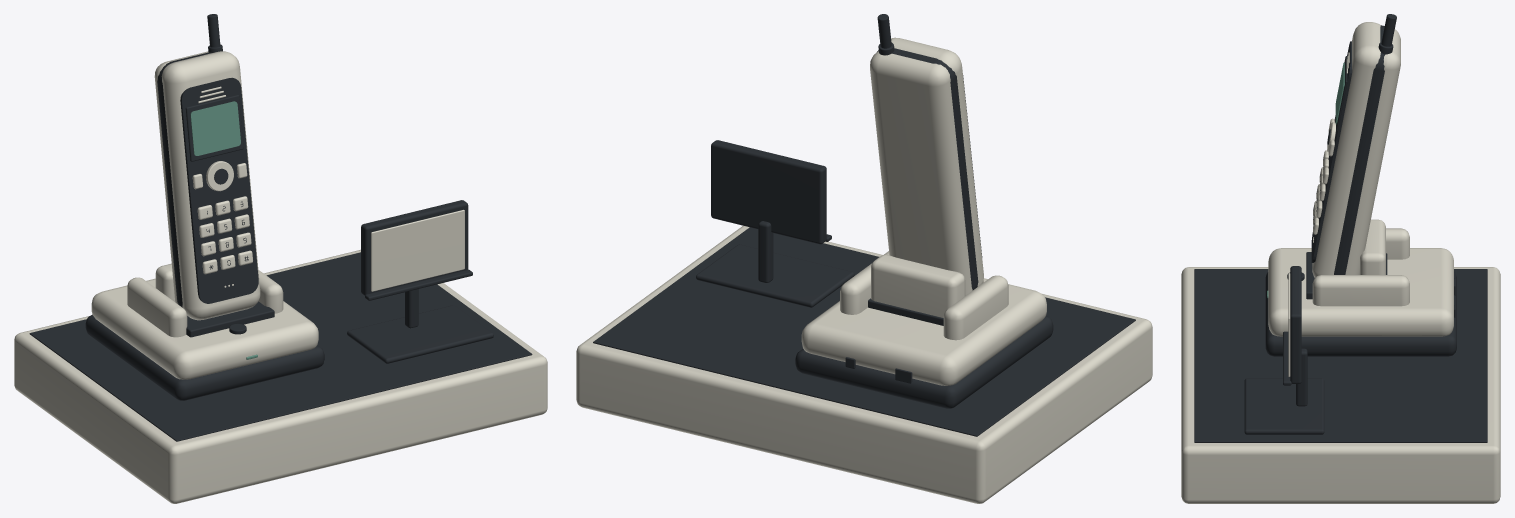
The model's file is cordless-phone-display.glb.
3 views of the same model, side by side, from view 1: azimuth 30°, elevation 25°; view 2: azimuth 150°, elevation 25°; view 3: azimuth 270°, elevation 25° (orthographic). The views are drawn at different scales.
Parts seen in each view (by area): view 1: BATCH_Mineral, BATCH_Graphite, BATCH_LCD; view 2: BATCH_Mineral, BATCH_Graphite; view 3: BATCH_Mineral, BATCH_Graphite.
Part boxes in pixels (x1,y1,x2,y2): BATCH_Mineral: [14, 51, 547, 503]; BATCH_Graphite: [29, 14, 532, 441]; BATCH_LCD: [190, 101, 257, 359]; BATCH_Mineral: [576, 37, 1152, 503]; BATCH_Graphite: [593, 14, 1135, 436]; BATCH_Mineral: [1181, 22, 1500, 503]; BATCH_Graphite: [1194, 14, 1487, 442].
Bounding box in the file's own units: 0.3 × 0.2907 × 0.22.
